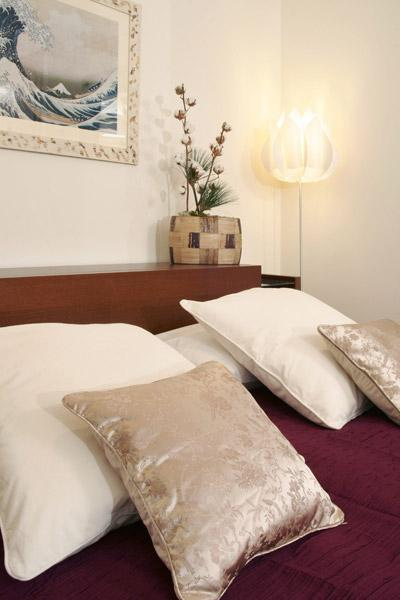Cama: (3, 269, 397, 593)
